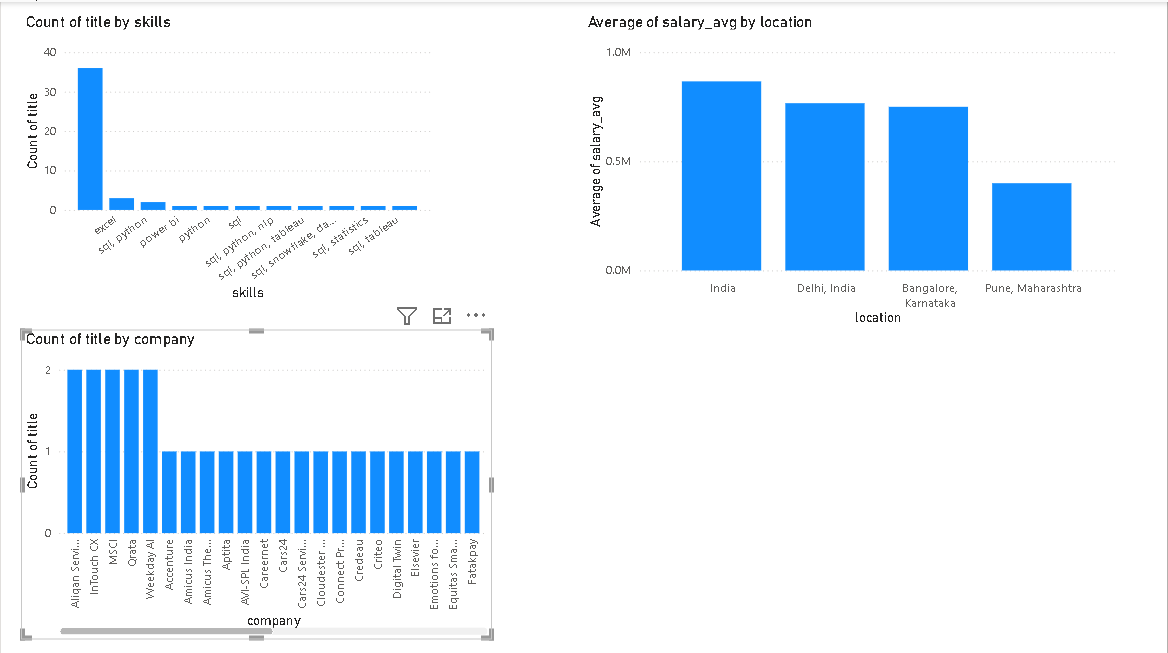

The dashboard page shown, as its layout file describes it:
{"tool":"powerbi","page":{"name":"Page 1","canvas":[1280,720],"ordinal":0},"visuals":[{"type":"clusteredColumnChart","fields":{"Y":["CountNonNull(job_data.title)"],"Category":["job_data.skills"]},"box":[9.8,0,403.5,287.4],"z":0},{"type":"clusteredColumnChart","fields":{"Category":["job_data.location"],"Y":["Avg(job_data.salary_avg)"]},"box":[448.8,0,462.2,330.2],"z":1000},{"type":"clusteredColumnChart","fields":{"Y":["CountNonNull(job_data.company)"]},"box":[10,326.5,404,287],"z":2000}]}

Visuals, with their boxes in screenshot pixels (x1, y1, x2, y2), scaled from the page's 1280x720 canvas onto the 1168x653 screenshot:
clusteredColumnChart - CountNonNull(job_data.title) x job_data.skills: [left=9, top=0, right=377, bottom=261]
clusteredColumnChart - job_data.location x Avg(job_data.salary_avg): [left=410, top=0, right=831, bottom=299]
clusteredColumnChart - CountNonNull(job_data.company): [left=9, top=296, right=378, bottom=556]
